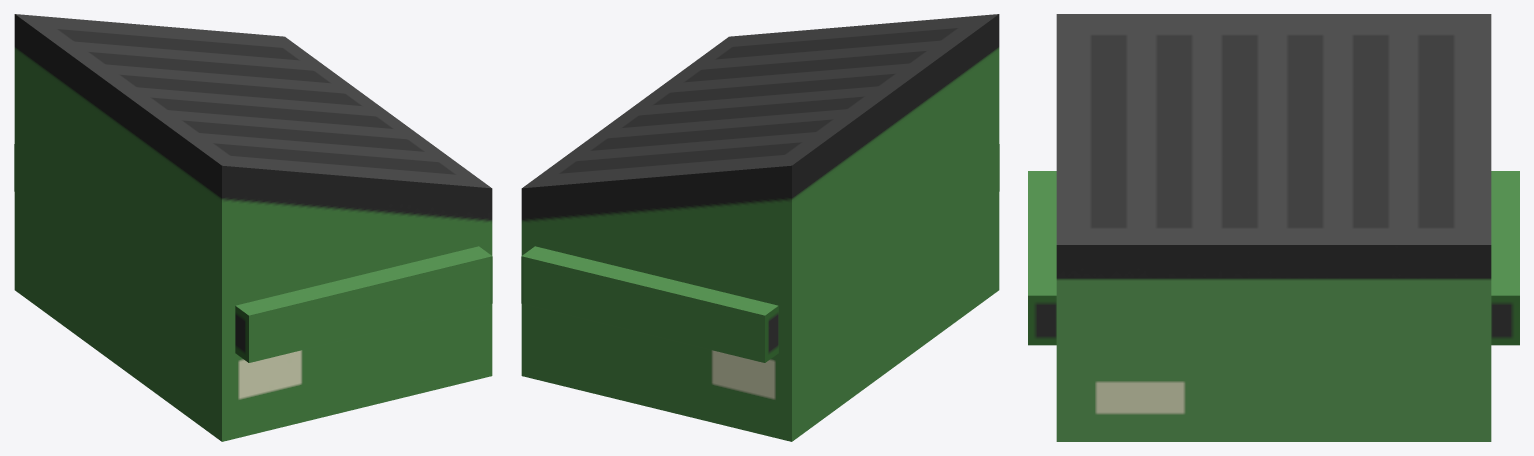
Rendered from dumpster_mesh.fbx.
3 views of the same model, side by side, from view 1: azimuth 30°, elevation 25°; view 2: azimuth 150°, elevation 25°; view 3: azimuth 270°, elevation 25° (orthographic). The views are drawn at different scales.
Visible parts, largest first — view 1: dumpster_mesh; view 2: dumpster_mesh; view 3: dumpster_mesh.
Boxes of the visible parts, <box> form: dumpster_mesh: <box>14,14,492,441</box>; dumpster_mesh: <box>521,14,999,441</box>; dumpster_mesh: <box>1028,14,1519,441</box>.
Size of the model in its own units: 2.19 by 2.14 by 3.29.
